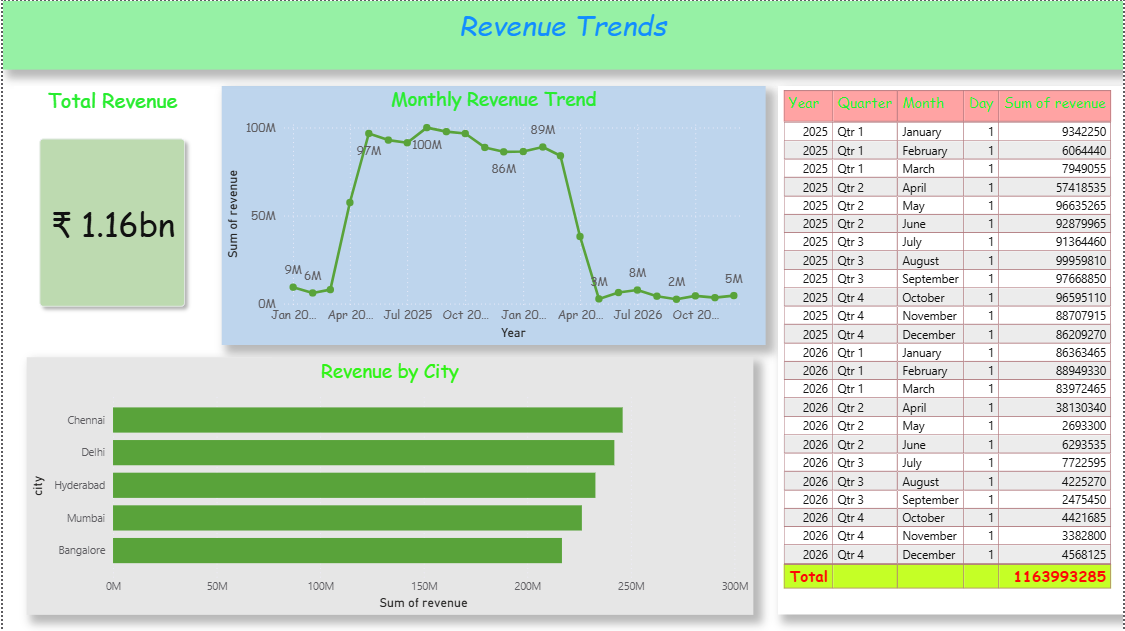

What the dashboard file says about the page in this screenshot:
{"tool":"powerbi","page":{"name":"Revenue Trends","canvas":[1280,720],"ordinal":1},"visuals":[{"type":"lineChart","title":"Monthly Revenue Trend","fields":{"Y":["Sum(monthly_revenue.revenue)"],"Category":["monthly_revenue.year_month.Variation.Date Hierarchy.Year","monthly_revenue.year_month.Variation.Date Hierarchy.Quarter","monthly_revenue.year_month.Variation.Date Hierarchy.Month","monthly_revenue.year_month.Variation.Date Hierarchy.Day"]},"box":[250,97.1,621.4,295.7],"z":0},{"type":"textbox","box":[27,407,280,280],"z":1000},{"type":"textbox","box":[0,0,1280,78.6],"z":2000},{"type":"tableEx","fields":{"Values":["monthly_revenue.year_month.Variation.Date Hierarchy.Year","monthly_revenue.year_month.Variation.Date Hierarchy.Quarter","monthly_revenue.year_month.Variation.Date Hierarchy.Month","monthly_revenue.year_month.Variation.Date Hierarchy.Day","Sum(monthly_revenue.revenue)"]},"box":[885.7,97.1,394.3,604.3],"z":3000},{"type":"clusteredBarChart","title":"Revenue by City","fields":{"Category":["revenue_by_city.city"],"Y":["Sum(revenue_by_city.revenue)"]},"box":[27.1,407.1,830,294.3],"z":4000},{"type":"cardVisual","title":"Total Revenue","fields":{"Data":["Sum(fact_sales.revenue)"]},"box":[12.9,97.1,224.3,281.4],"z":5000}]}

Visuals, with their boxes in screenshot pixels (x1, y1, x2, y2), scaled from the page's 1280x720 canvas onto the 1125x631 screenshot:
"Monthly Revenue Trend" lineChart: locate(220, 85, 766, 344)
textbox: locate(24, 357, 270, 602)
textbox: locate(0, 0, 1124, 69)
tableEx - monthly_revenue.year_month.Variation.Date Hierarchy.Year x monthly_revenue.year_month.Variation.Date Hierarchy.Quarter: locate(778, 85, 1124, 615)
"Revenue by City" clusteredBarChart: locate(24, 357, 753, 615)
"Total Revenue" cardVisual: locate(11, 85, 208, 332)
